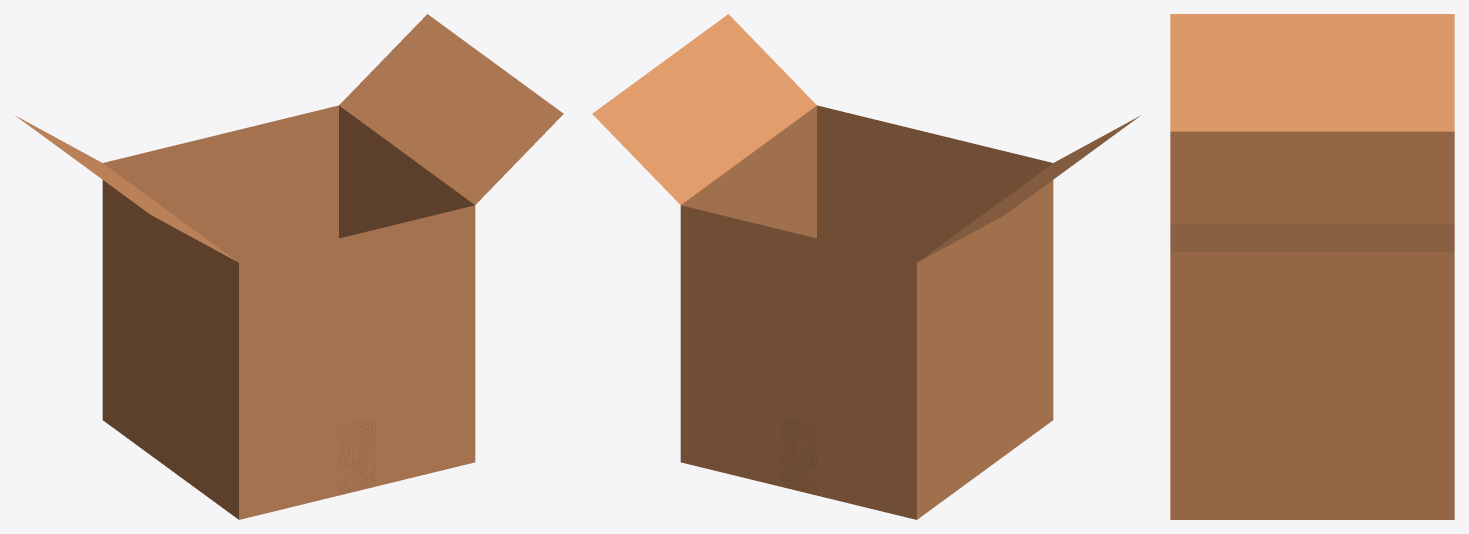
The model's file is cardboardBoxOpen.obj.
3 views of the same model, side by side, from view 1: azimuth 30°, elevation 25°; view 2: azimuth 150°, elevation 25°; view 3: azimuth 270°, elevation 25° (orthographic). The views are drawn at different scales.
Parts seen in each view (by area): view 1: cardboardBoxOpen; view 2: cardboardBoxOpen; view 3: cardboardBoxOpen.
Boxes of the visible parts, box(x1,y1,x2,y2) form: cardboardBoxOpen: box(15, 14, 563, 519); cardboardBoxOpen: box(592, 14, 1140, 519); cardboardBoxOpen: box(1170, 14, 1454, 519).
Bounding box in the file's own units: 0.3719 × 0.281 × 0.2125.
